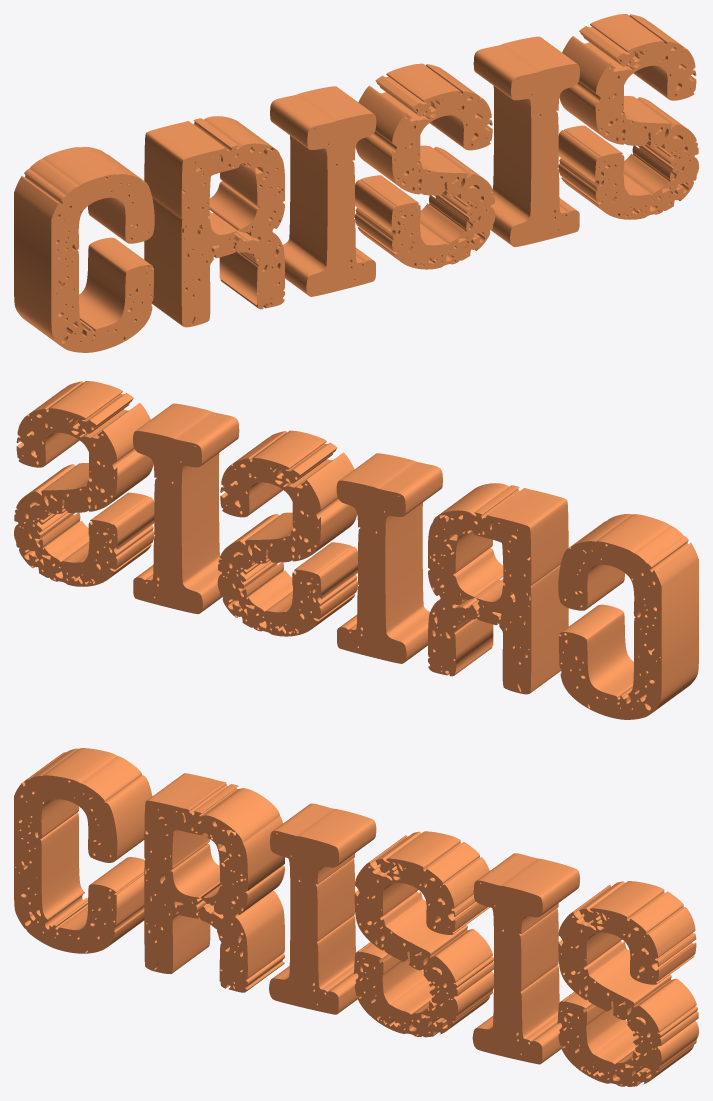
Rendered from crisis-text.fbx.
3 renders of one model, top to bottom at view 1: azimuth 30°, elevation 25°; view 2: azimuth 150°, elevation 25°; view 3: azimuth 330°, elevation 25°, orthographic.
Parts seen in each view (by area): view 1: Text; view 2: Text; view 3: Text.
Part boxes in pixels (x1,y1,x2,y2): Text: [14, 14, 698, 352]; Text: [14, 381, 698, 719]; Text: [14, 748, 698, 1086].
Size of the model in its own units: 241 by 61.67 by 24.
